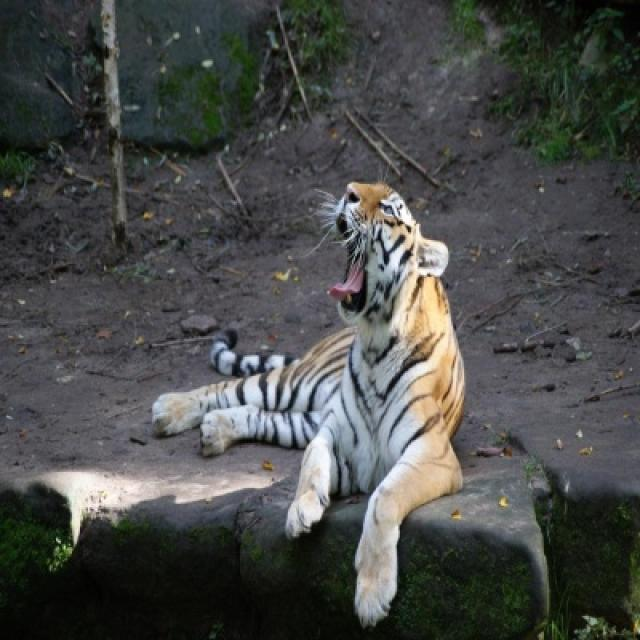Tiger: (146, 179, 470, 627)
